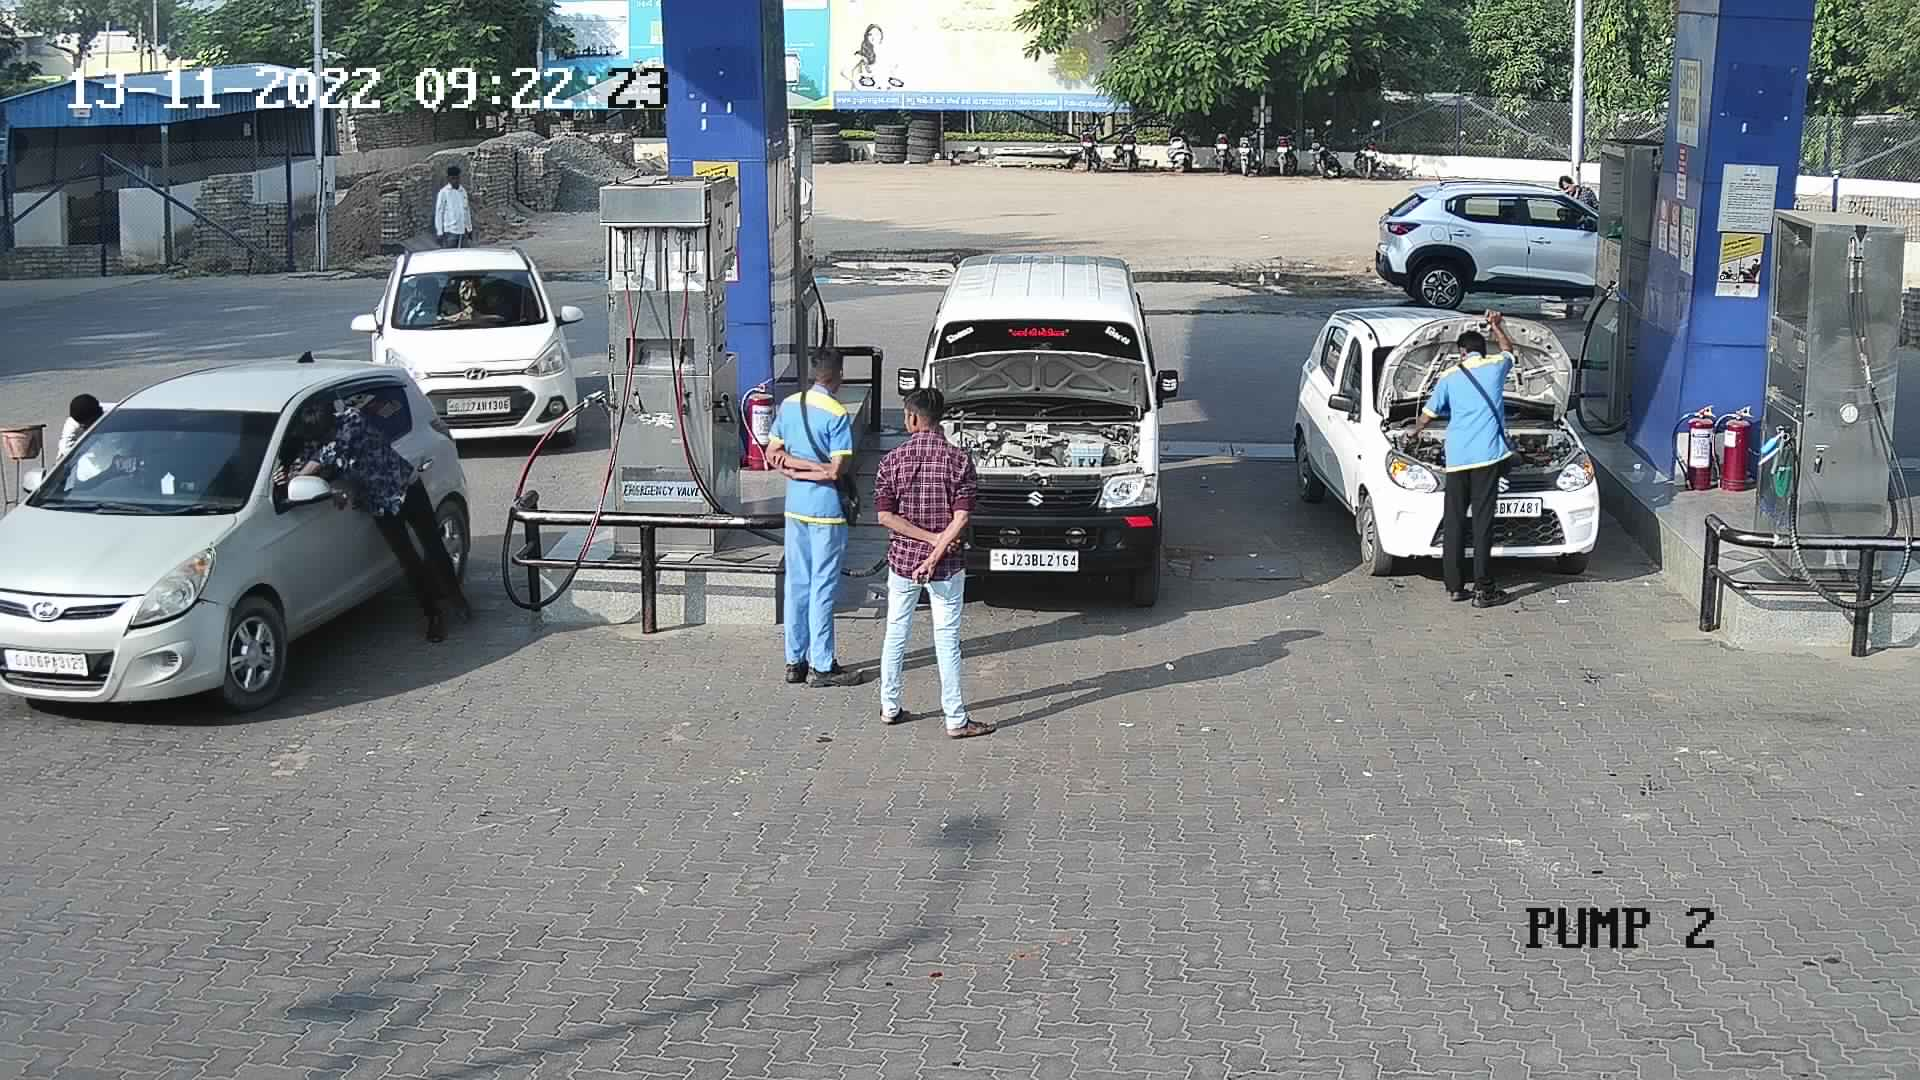Bike: (1065, 104, 1114, 173), (1303, 109, 1348, 177), (1112, 107, 1150, 179), (1164, 107, 1203, 175), (1345, 116, 1383, 181), (1273, 116, 1309, 181), (1234, 113, 1273, 175), (1207, 113, 1241, 179)
Car: (0, 338, 464, 728), (898, 258, 1187, 599), (1283, 302, 1609, 591), (353, 233, 615, 451), (1374, 166, 1638, 314)
Others: (756, 339, 878, 692), (1407, 320, 1509, 612)
